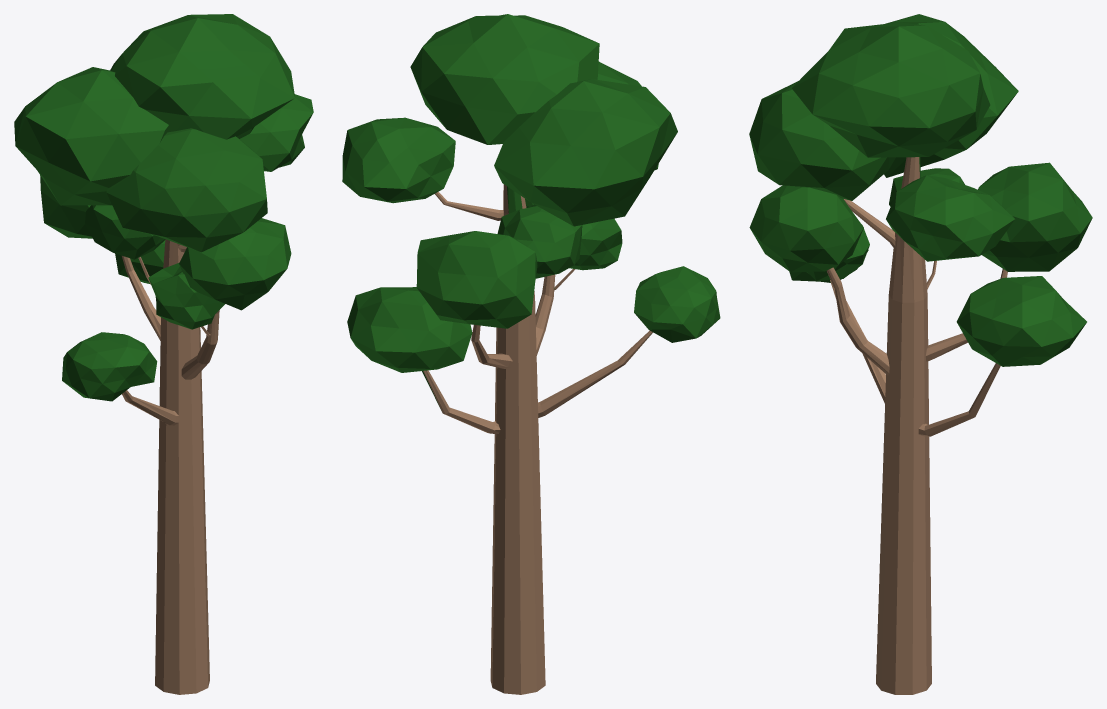
File: Arbol2.fbx
3 views of the same model, side by side, from view 1: azimuth 30°, elevation 25°; view 2: azimuth 150°, elevation 25°; view 3: azimuth 270°, elevation 25° (orthographic).
Parts seen in each view (by area): view 1: FirstTree; view 2: FirstTree; view 3: FirstTree.
Part boxes in pixels (bbox=[...]): FirstTree: bbox=[14, 14, 313, 694]; FirstTree: bbox=[342, 14, 720, 694]; FirstTree: bbox=[749, 14, 1092, 694].
Size of the model in its own units: 2856 by 5993 by 2813.
